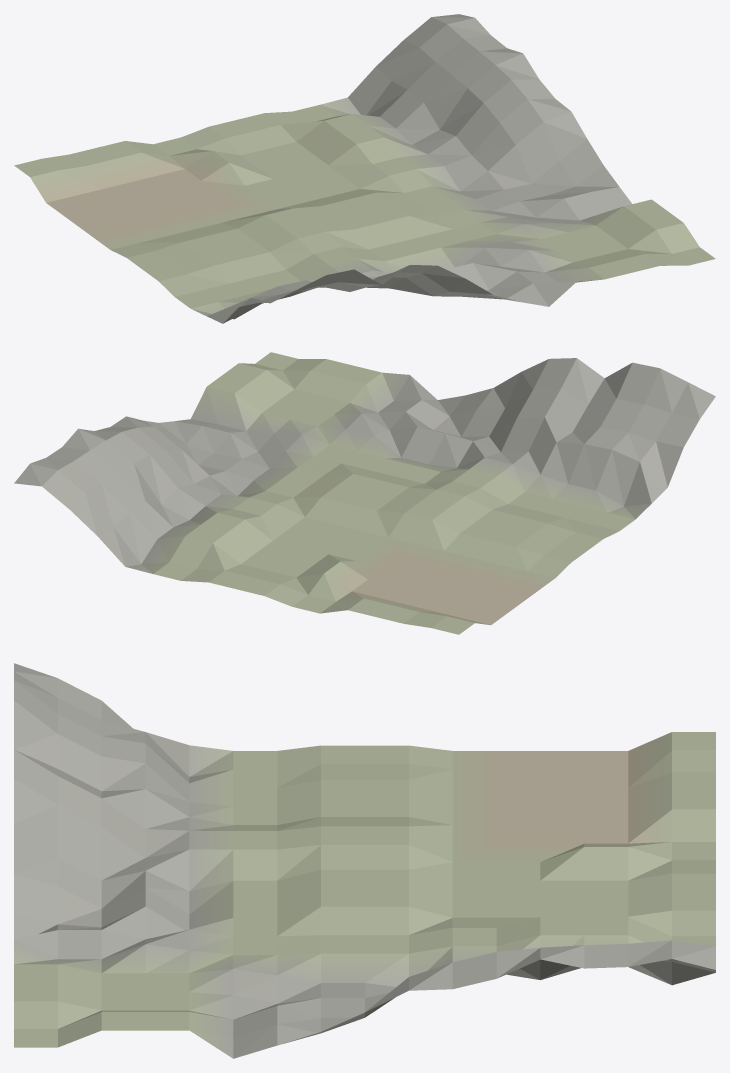
3 views of the same model, one above another, from view 1: azimuth 30°, elevation 25°; view 2: azimuth 150°, elevation 25°; view 3: azimuth 270°, elevation 25° (orthographic). The views are drawn at different scales.
Size of the model in its own units: 32 by 6.18 by 32.
